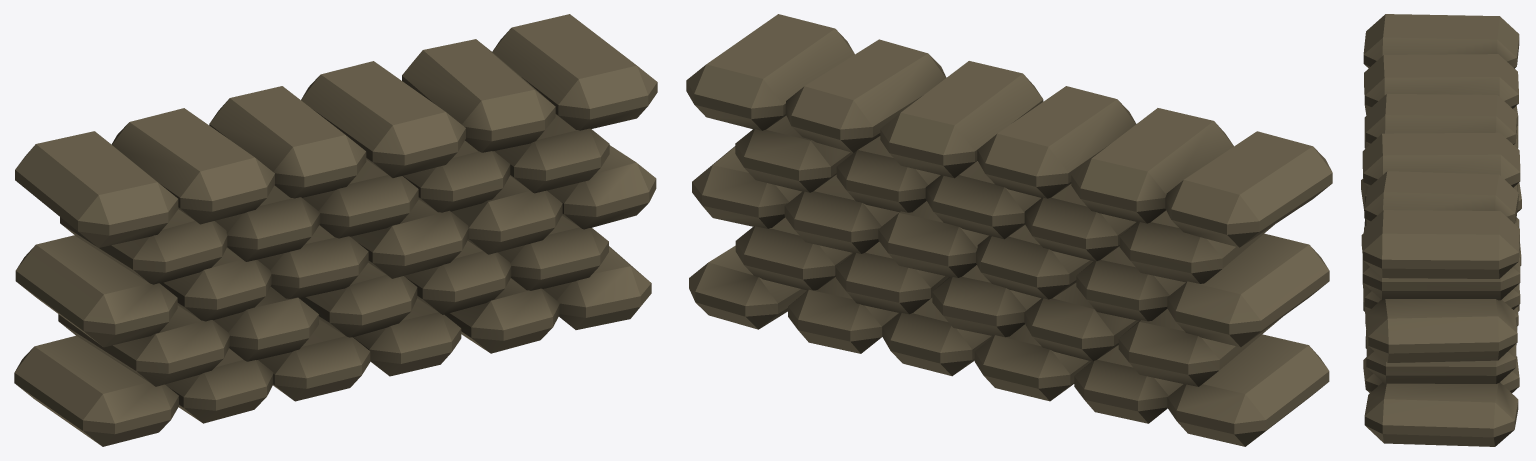
The model's file is sandbag_wall.glb.
The picture shows the model from 3 angles, left to right: view 1: azimuth 30°, elevation 25°; view 2: azimuth 150°, elevation 25°; view 3: azimuth 270°, elevation 25°; orthographic projection. The views are drawn at different scales.
Visible parts, largest first — view 1: SandbagWall; view 2: SandbagWall; view 3: SandbagWall.
Boxes of the visible parts, x1,y1,x2,y2 form: SandbagWall: (14,14,657,446); SandbagWall: (686,14,1332,446); SandbagWall: (1361,14,1521,446).
Size of the model in its own units: 2.06 by 0.86 by 0.5911.
